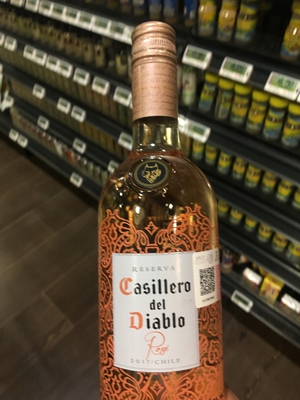casillero del diablo rose: (94, 25, 231, 394)
